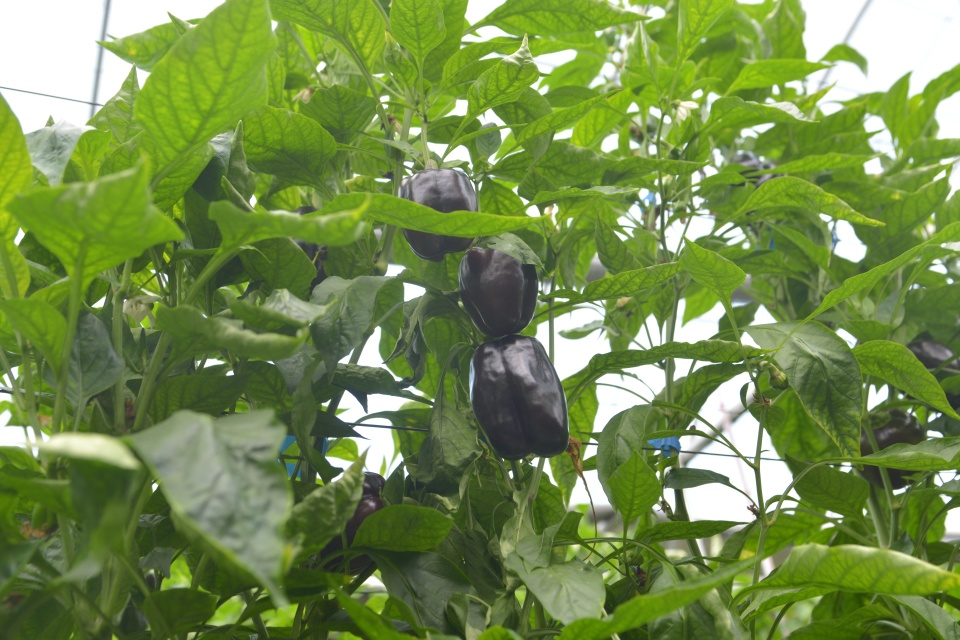flower: (120, 292, 165, 332), (673, 98, 700, 126)
fruit: (467, 332, 570, 461), (305, 468, 387, 574), (395, 165, 481, 265), (457, 245, 540, 338), (855, 404, 929, 491), (898, 331, 960, 416), (726, 148, 787, 226), (287, 203, 333, 297)
immature: (767, 370, 790, 391)
pedicle: (868, 408, 894, 428), (379, 487, 382, 499)
